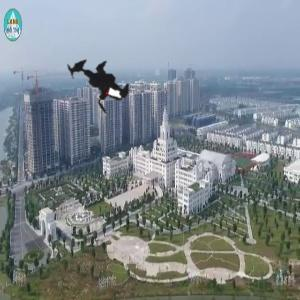drone: (47, 36, 148, 137)
